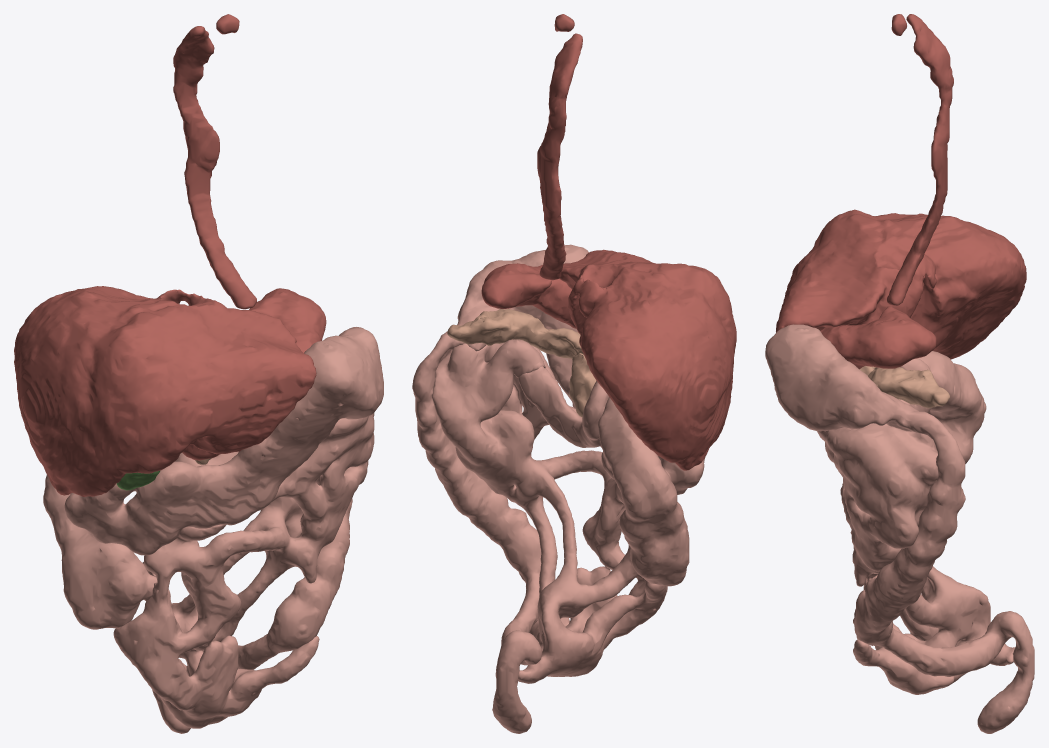
File: tsd_s0327_older_adult_male.digestive.LOD1.glb
3 views of the same model, side by side, from view 1: azimuth 30°, elevation 25°; view 2: azimuth 150°, elevation 25°; view 3: azimuth 270°, elevation 25° (orthographic). The views are drawn at different scales.
Visible parts, largest first — view 1: TSD_S0327.OLDER_ADULT.MALE.DIGESTIVE.LIVER, TSD_S0327.OLDER_ADULT.MALE.DIGESTIVE.COLON, TSD_S0327.OLDER_ADULT.MALE.DIGESTIVE.SMALL_BOWEL_JEJUNUM_AND, TSD_S0327.OLDER_ADULT.MALE.DIGESTIVE.ESOPHAGUS, TSD_S0327.OLDER_ADULT.MALE.DIGESTIVE.STOMACH; view 2: TSD_S0327.OLDER_ADULT.MALE.DIGESTIVE.SMALL_BOWEL_JEJUNUM_AND, TSD_S0327.OLDER_ADULT.MALE.DIGESTIVE.LIVER, TSD_S0327.OLDER_ADULT.MALE.DIGESTIVE.COLON, TSD_S0327.OLDER_ADULT.MALE.DIGESTIVE.ESOPHAGUS, TSD_S0327.OLDER_ADULT.MALE.DIGESTIVE.PANCREAS, TSD_S0327.OLDER_ADULT.MALE.DIGESTIVE.DUODENUM, TSD_S0327.OLDER_ADULT.MALE.DIGESTIVE.STOMACH; view 3: TSD_S0327.OLDER_ADULT.MALE.DIGESTIVE.COLON, TSD_S0327.OLDER_ADULT.MALE.DIGESTIVE.LIVER, TSD_S0327.OLDER_ADULT.MALE.DIGESTIVE.SMALL_BOWEL_JEJUNUM_AND, TSD_S0327.OLDER_ADULT.MALE.DIGESTIVE.ESOPHAGUS, TSD_S0327.OLDER_ADULT.MALE.DIGESTIVE.STOMACH, TSD_S0327.OLDER_ADULT.MALE.DIGESTIVE.PANCREAS.
Part boxes in pixels (bbox=[...]): TSD_S0327.OLDER_ADULT.MALE.DIGESTIVE.LIVER: bbox=[14, 286, 316, 496]; TSD_S0327.OLDER_ADULT.MALE.DIGESTIVE.COLON: bbox=[43, 327, 383, 733]; TSD_S0327.OLDER_ADULT.MALE.DIGESTIVE.SMALL_BOWEL_JEJUNUM_AND: bbox=[113, 413, 374, 728]; TSD_S0327.OLDER_ADULT.MALE.DIGESTIVE.ESOPHAGUS: bbox=[173, 14, 256, 309]; TSD_S0327.OLDER_ADULT.MALE.DIGESTIVE.STOMACH: bbox=[182, 288, 326, 460]; TSD_S0327.OLDER_ADULT.MALE.DIGESTIVE.SMALL_BOWEL_JEJUNUM_AND: bbox=[432, 339, 667, 683]; TSD_S0327.OLDER_ADULT.MALE.DIGESTIVE.LIVER: bbox=[559, 249, 736, 470]; TSD_S0327.OLDER_ADULT.MALE.DIGESTIVE.COLON: bbox=[412, 244, 705, 733]; TSD_S0327.OLDER_ADULT.MALE.DIGESTIVE.ESOPHAGUS: bbox=[537, 14, 582, 280]; TSD_S0327.OLDER_ADULT.MALE.DIGESTIVE.PANCREAS: bbox=[447, 309, 596, 417]; TSD_S0327.OLDER_ADULT.MALE.DIGESTIVE.DUODENUM: bbox=[518, 366, 609, 447]; TSD_S0327.OLDER_ADULT.MALE.DIGESTIVE.STOMACH: bbox=[481, 263, 576, 328]; TSD_S0327.OLDER_ADULT.MALE.DIGESTIVE.COLON: bbox=[765, 324, 1034, 733]; TSD_S0327.OLDER_ADULT.MALE.DIGESTIVE.LIVER: bbox=[776, 209, 1026, 359]; TSD_S0327.OLDER_ADULT.MALE.DIGESTIVE.SMALL_BOWEL_JEJUNUM_AND: bbox=[825, 399, 1014, 694]; TSD_S0327.OLDER_ADULT.MALE.DIGESTIVE.ESOPHAGUS: bbox=[887, 14, 953, 305]; TSD_S0327.OLDER_ADULT.MALE.DIGESTIVE.STOMACH: bbox=[820, 306, 936, 369]; TSD_S0327.OLDER_ADULT.MALE.DIGESTIVE.PANCREAS: bbox=[859, 366, 949, 408].
Size of the model in its own units: 0.2551 by 0.57 by 0.1937.
